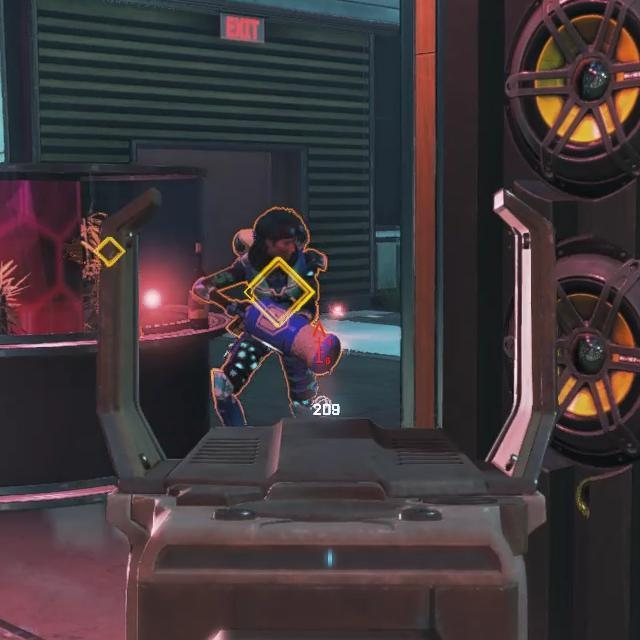avatar: (191, 204, 345, 426)
object: (244, 255, 316, 327), (93, 234, 127, 270)
